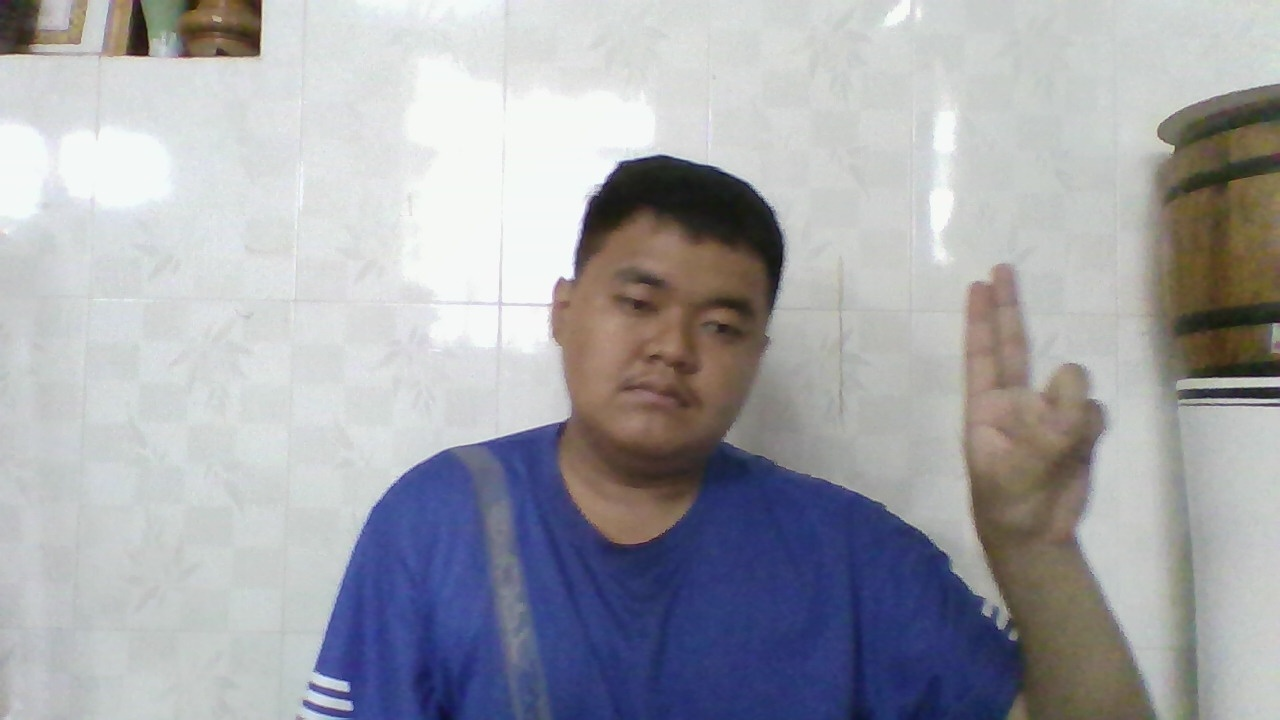U: (962, 257, 1105, 561)
